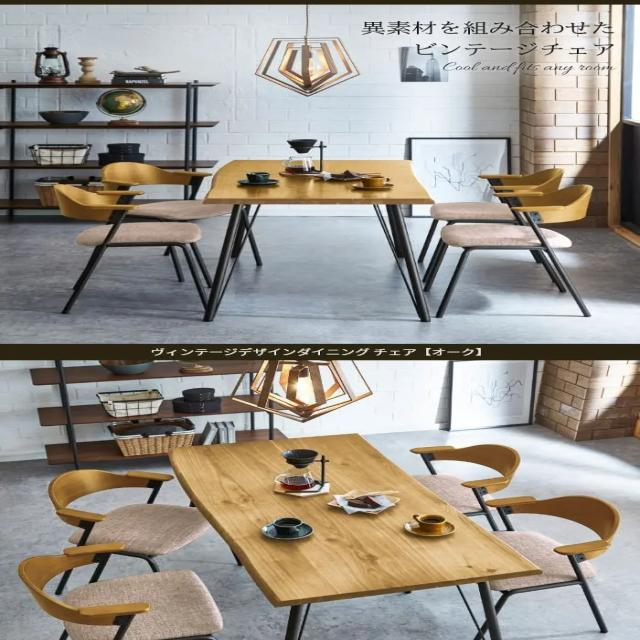chair vintage: (46, 182, 205, 319)
